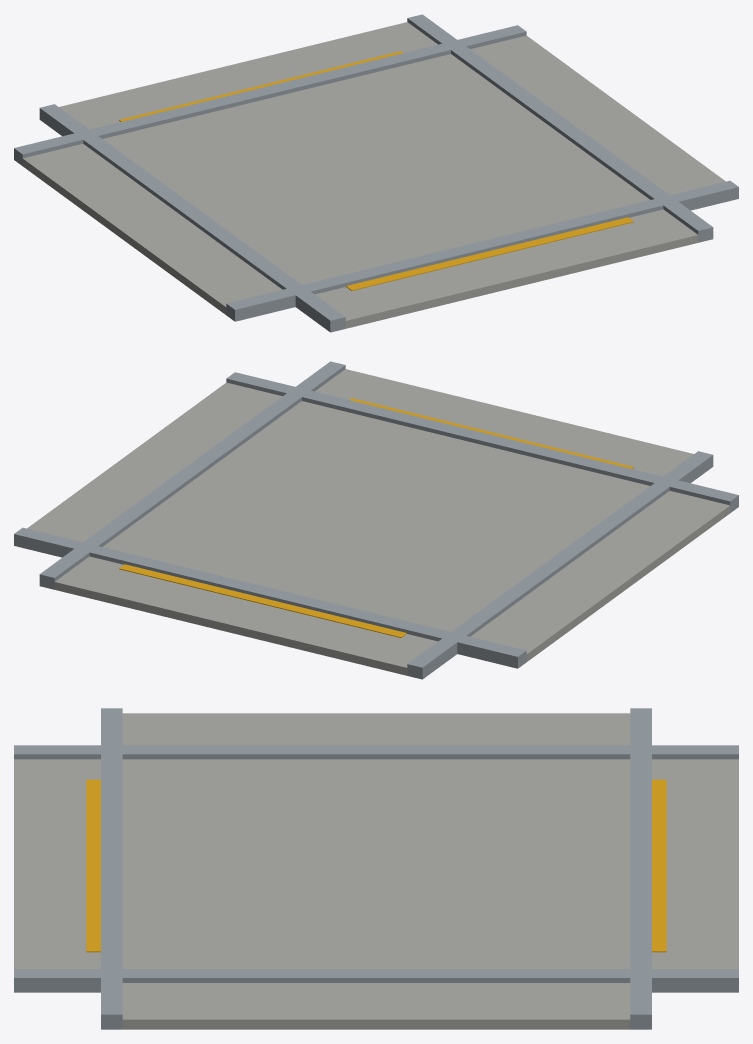
The model's file is road_industrial_viii_cross.glb.
The picture shows the model from 3 angles, top to bottom: view 1: azimuth 30°, elevation 25°; view 2: azimuth 150°, elevation 25°; view 3: azimuth 270°, elevation 25°; orthographic projection. The views are drawn at different scales.
Parts seen in each view (by area): view 1: body; view 2: body; view 3: body.
Boxes of the visible parts, x1,y1,x2,y2 form: body: (14,14,738,332); body: (14,361,738,679); body: (14,708,738,1029).
Size of what is drawn, in the model's own units: 8 by 0.18 by 8.
